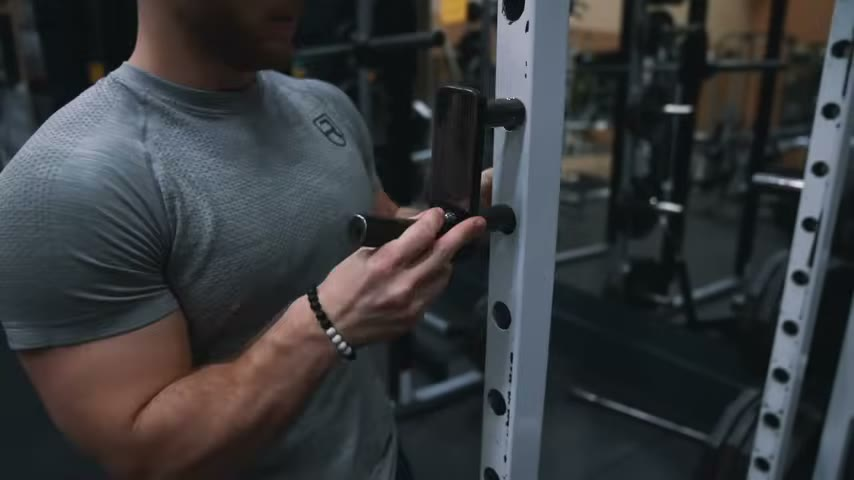barbell_plate_side: (275, 70, 378, 357)
